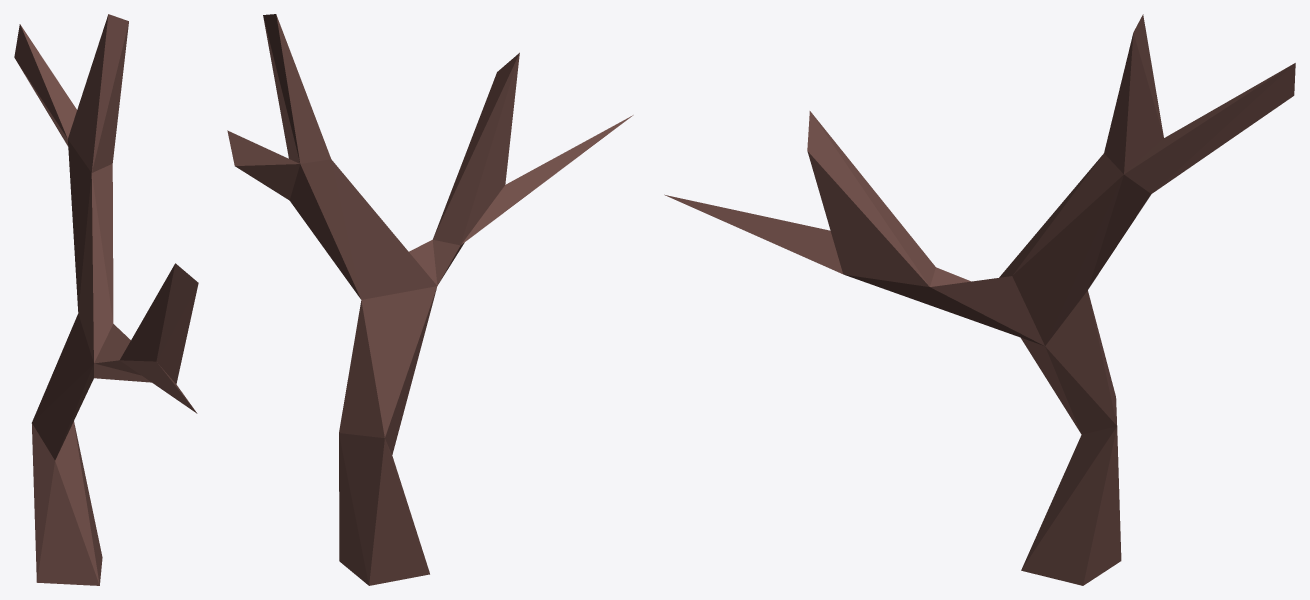
The model's file is Willow_Dead_5.lod3.glb.
3 renders of one model, left to right at view 1: azimuth 30°, elevation 25°; view 2: azimuth 150°, elevation 25°; view 3: azimuth 270°, elevation 25°, orthographic. The views are drawn at different scales.
Parts seen in each view (by area): view 1: Willow_Dead_5; view 2: Willow_Dead_5; view 3: Willow_Dead_5.
Part boxes in pixels (x1,y1,x2,y2): Willow_Dead_5: (14, 14, 198, 585); Willow_Dead_5: (227, 14, 633, 585); Willow_Dead_5: (664, 14, 1295, 585).
Bounding box in the file's own units: 0.5614 × 2.03 × 1.96.
